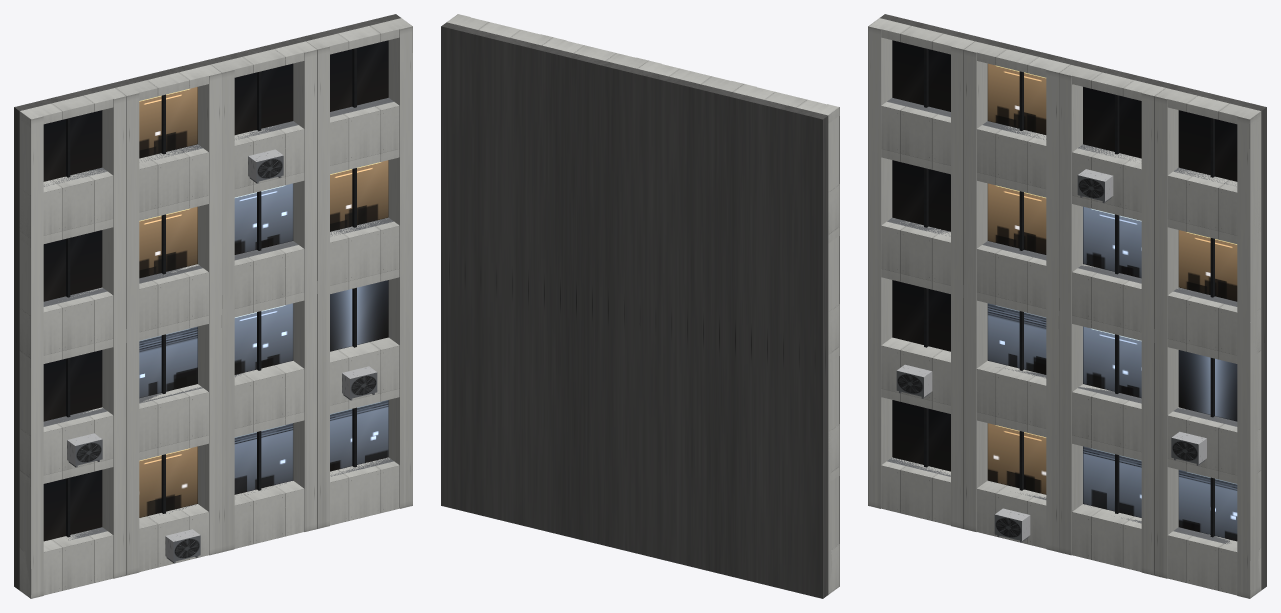
Rendered from SM_INFD_FacadePanel_CER.fbx.
3 renders of one model, left to right at view 1: azimuth 30°, elevation 25°; view 2: azimuth 150°, elevation 25°; view 3: azimuth 330°, elevation 25°, orthographic.
Parts seen in each view (by area): view 1: SM_INFD_FacadePanel_CER; view 2: SM_INFD_FacadePanel_CER; view 3: SM_INFD_FacadePanel_CER.
Boxes of the visible parts, left/top/right/bottom form: SM_INFD_FacadePanel_CER: left=14, top=14, right=412, bottom=598; SM_INFD_FacadePanel_CER: left=441, top=14, right=839, bottom=598; SM_INFD_FacadePanel_CER: left=868, top=14, right=1266, bottom=598.
Bounding box in the file's own units: 12 × 14.4 × 1.35.
